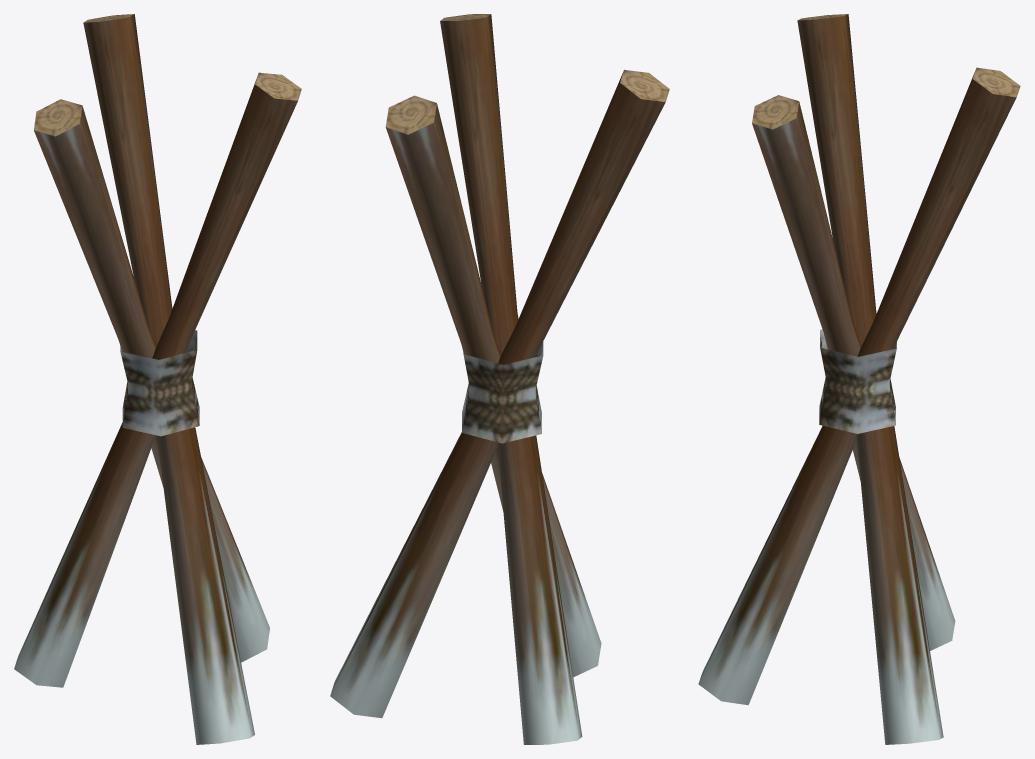
The model's file is h5_huopen_b.FBX.
3 views of the same model, side by side, from view 1: azimuth 30°, elevation 25°; view 2: azimuth 150°, elevation 25°; view 3: azimuth 270°, elevation 25° (orthographic). The views are drawn at different scales.
Visible parts, largest first — view 1: h5_huopen_b; view 2: h5_huopen_b; view 3: h5_huopen_b.
Part boxes in pixels (box(x1,y1,x2,y2)): h5_huopen_b: box(14, 14, 301, 744); h5_huopen_b: box(330, 14, 669, 744); h5_huopen_b: box(698, 14, 1020, 744).
Bounding box in the file's own units: 0.6832 × 1.49 × 0.6893.
